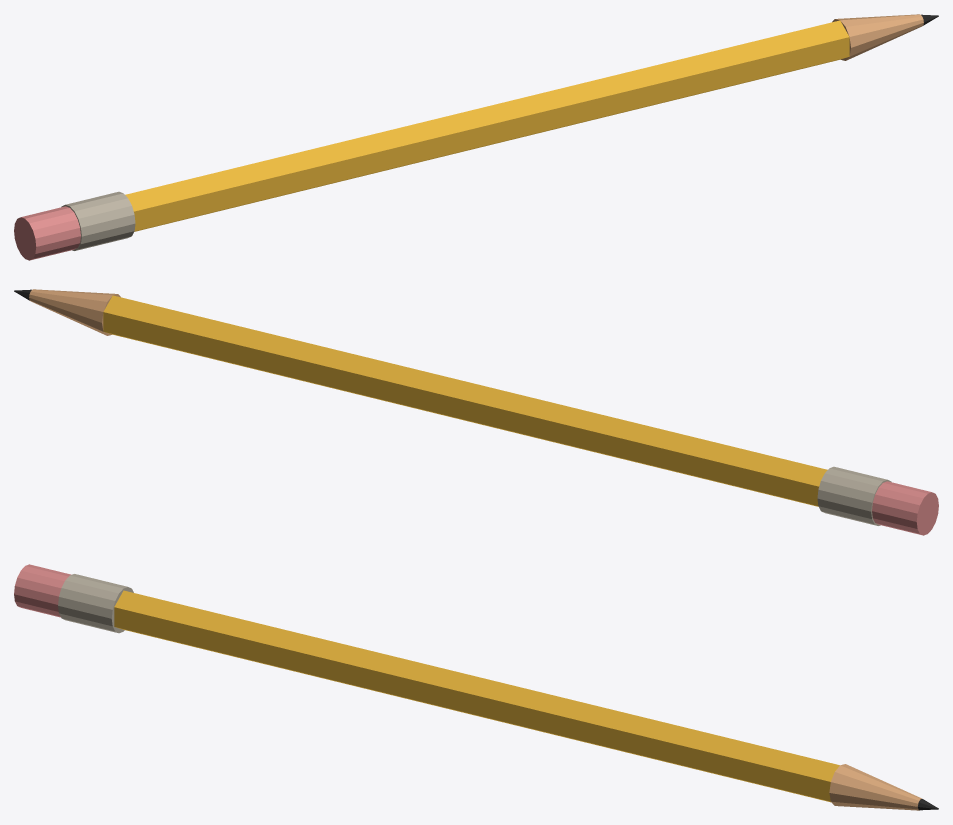
The model's file is pencil.fbx.
The picture shows the model from 3 angles, top to bottom: view 1: azimuth 30°, elevation 25°; view 2: azimuth 150°, elevation 25°; view 3: azimuth 330°, elevation 25°; orthographic projection.
Parts seen in each view (by area): view 1: body, eraser, ferrule, cone; view 2: body, eraser, ferrule, cone; view 3: body, ferrule, cone, eraser.
Part boxes in pixels (<box>): body: <box>125,20,849,231</box>; eraser: <box>14,206,80,260</box>; ferrule: <box>61,191,135,250</box>; cone: <box>832,14,923,60</box>; body: <box>103,295,827,506</box>; eraser: <box>872,481,938,535</box>; ferrule: <box>817,466,891,525</box>; cone: <box>29,289,120,335</box>; body: <box>114,590,839,802</box>; ferrule: <box>58,574,133,633</box>; cone: <box>829,764,922,810</box>; eraser: <box>14,564,71,617</box>.
Size of the model in its own units: 0.204 by 0.0092 by 0.0092.
